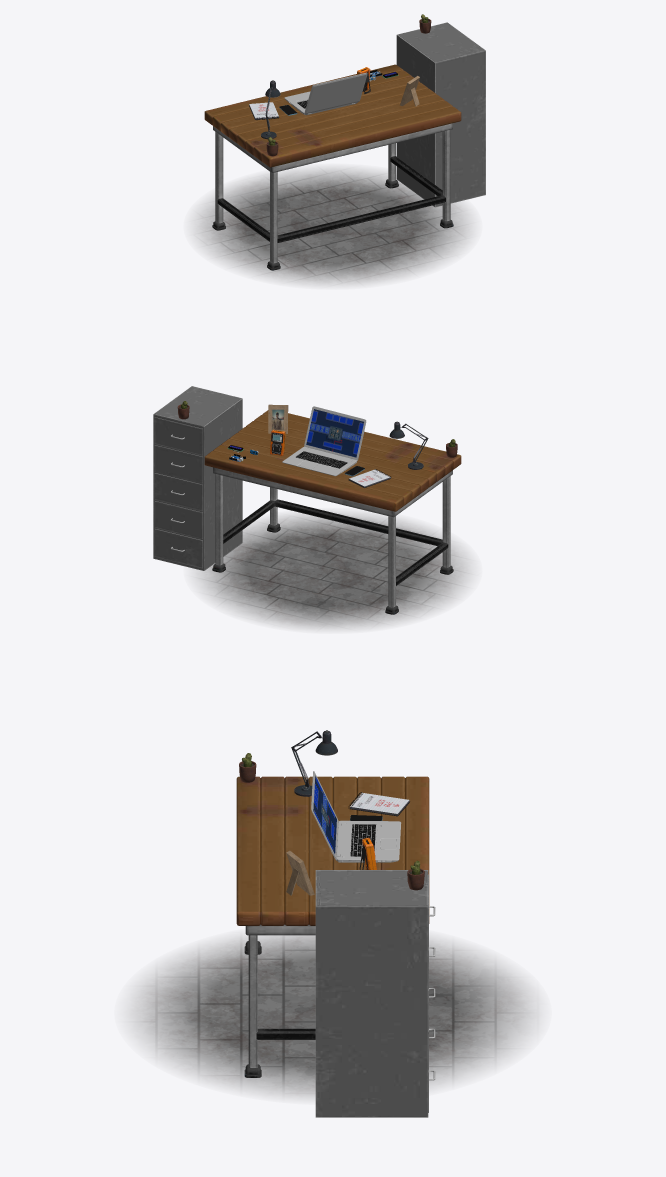
The model's file is office20.glb.
The picture shows the model from 3 angles, top to bottom: view 1: azimuth 30°, elevation 25°; view 2: azimuth 150°, elevation 25°; view 3: azimuth 270°, elevation 25°; orthographic projection. The views are drawn at different scales.
Parts seen in each view (by area): view 1: Ground_ground_mat_0, table_table_mat_0, Object_6.001, Plane.002; view 2: Ground_ground_mat_0, table_table_mat_0, Object_6.001, Plane.002, Plane.005_Material.006_0.001, Object_13.002, lamp; view 3: Ground_ground_mat_0, Object_6.001, table_table_mat_0, Plane.005_Material.006_0.001, Plane.002, Paper, lamp, Object_13.002, Plane.005.
Boxes of the visible parts, left/top/right/bottom form: Ground_ground_mat_0: left=193, top=167, right=472, bottom=285; table_table_mat_0: left=204, top=64, right=461, bottom=270; Object_6.001: left=396, top=22, right=485, bottom=207; Plane.002: left=304, top=72, right=367, bottom=114; Ground_ground_mat_0: left=193, top=512, right=472, bottom=629; table_table_mat_0: left=204, top=410, right=461, bottom=614; Object_6.001: left=153, top=386, right=242, bottom=570; Plane.002: left=304, top=406, right=366, bottom=461; Plane.005_Material.006_0.001: left=282, top=447, right=356, bottom=476; Object_13.002: left=268, top=404, right=288, bottom=433; lamp: left=389, top=421, right=428, bottom=469; Ground_ground_mat_0: left=128, top=934, right=537, bottom=1098; Object_6.001: left=315, top=870, right=435, bottom=1117; table_table_mat_0: left=236, top=776, right=429, bottom=1077; Plane.005_Material.006_0.001: left=336, top=820, right=401, bottom=862; Plane.002: left=311, top=771, right=341, bottom=860; Paper: left=350, top=792, right=409, bottom=815; lamp: left=291, top=730, right=337, bottom=796; Object_13.002: left=286, top=850, right=314, bottom=895; Plane.005: left=350, top=824, right=380, bottom=856.
Bounding box in the file's own units: 272 × 101 × 245.
Materials: 49 (13 with a texture image).
